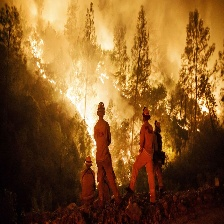fire: (65, 83, 102, 148), (25, 32, 57, 84), (94, 58, 131, 94), (188, 89, 219, 116), (165, 102, 182, 125), (119, 147, 135, 166)
smoke: (46, 1, 218, 63)
